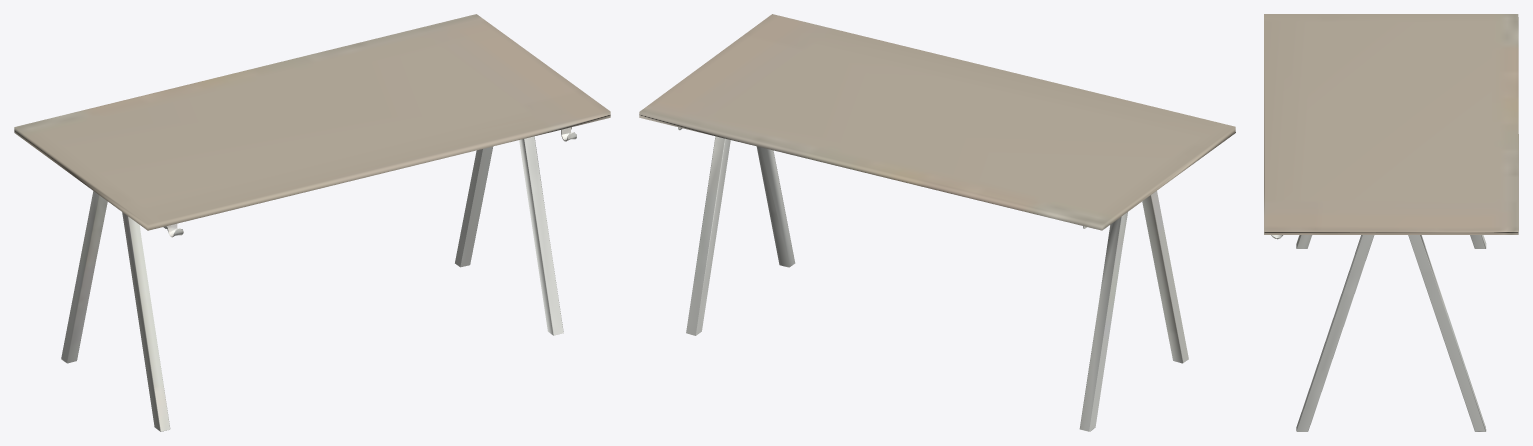
The model's file is TROTTEN desk.glb.
The picture shows the model from 3 angles, left to right: view 1: azimuth 30°, elevation 25°; view 2: azimuth 150°, elevation 25°; view 3: azimuth 270°, elevation 25°; orthographic projection. The views are drawn at different scales.
Visible parts, largest first — view 1: ProcessedMeshNode; view 2: ProcessedMeshNode; view 3: ProcessedMeshNode.
Boxes of the visible parts, x1,y1,x2,y2 form: ProcessedMeshNode: (14,14,610,431); ProcessedMeshNode: (639,14,1235,431); ProcessedMeshNode: (1264,14,1518,431).
Bounding box in the file's own units: 1.6 × 0.7508 × 0.8003.
Materials: 1 (1 with a texture image).
